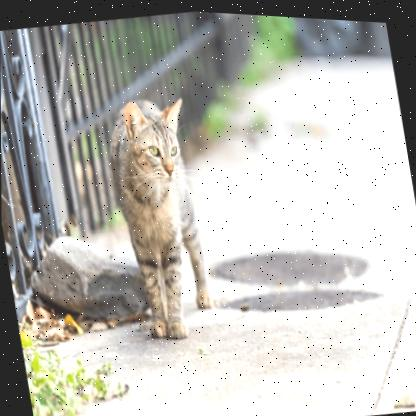cat: (108, 93, 214, 337)
